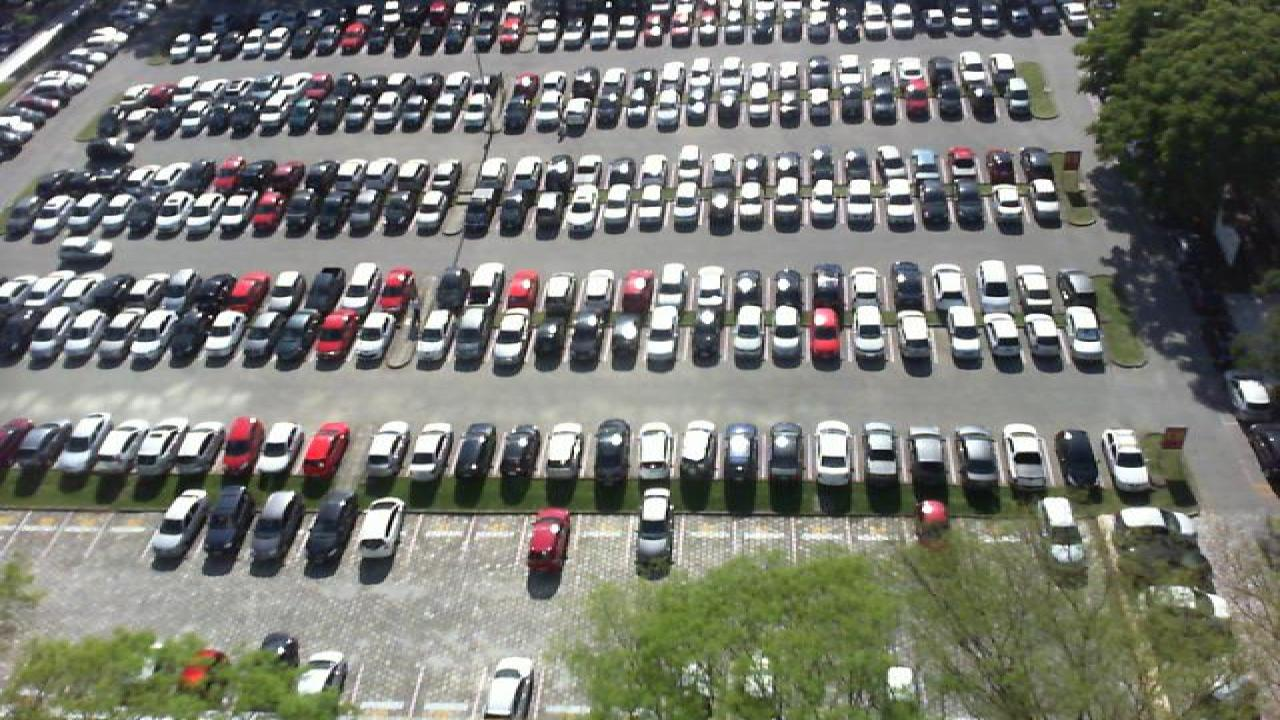Car: (242, 482, 298, 556), (150, 489, 208, 556), (300, 495, 356, 563), (1038, 495, 1088, 564), (482, 656, 534, 720), (354, 498, 404, 562), (1000, 424, 1046, 491), (364, 420, 416, 478), (204, 483, 248, 551), (954, 424, 1000, 489), (1054, 426, 1100, 491), (632, 488, 672, 562), (1120, 505, 1204, 540), (410, 420, 458, 481), (526, 506, 568, 575), (294, 648, 348, 700), (22, 420, 76, 472), (60, 413, 108, 471), (1106, 428, 1150, 491), (812, 418, 852, 486), (908, 424, 950, 488), (860, 422, 902, 485), (302, 422, 350, 477), (104, 420, 154, 472), (636, 420, 676, 482), (676, 420, 716, 482), (722, 422, 762, 484), (502, 422, 546, 478), (154, 422, 204, 471), (216, 415, 258, 473), (592, 418, 632, 478), (256, 423, 302, 475), (768, 420, 806, 482), (460, 422, 502, 478), (546, 423, 588, 478), (0, 417, 36, 468), (1230, 370, 1276, 408)
